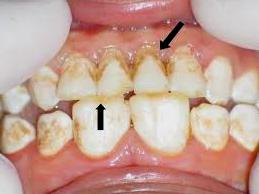Calculus: (186, 102, 230, 154), (32, 110, 69, 163), (94, 48, 132, 98), (133, 45, 171, 91), (56, 53, 92, 100)
